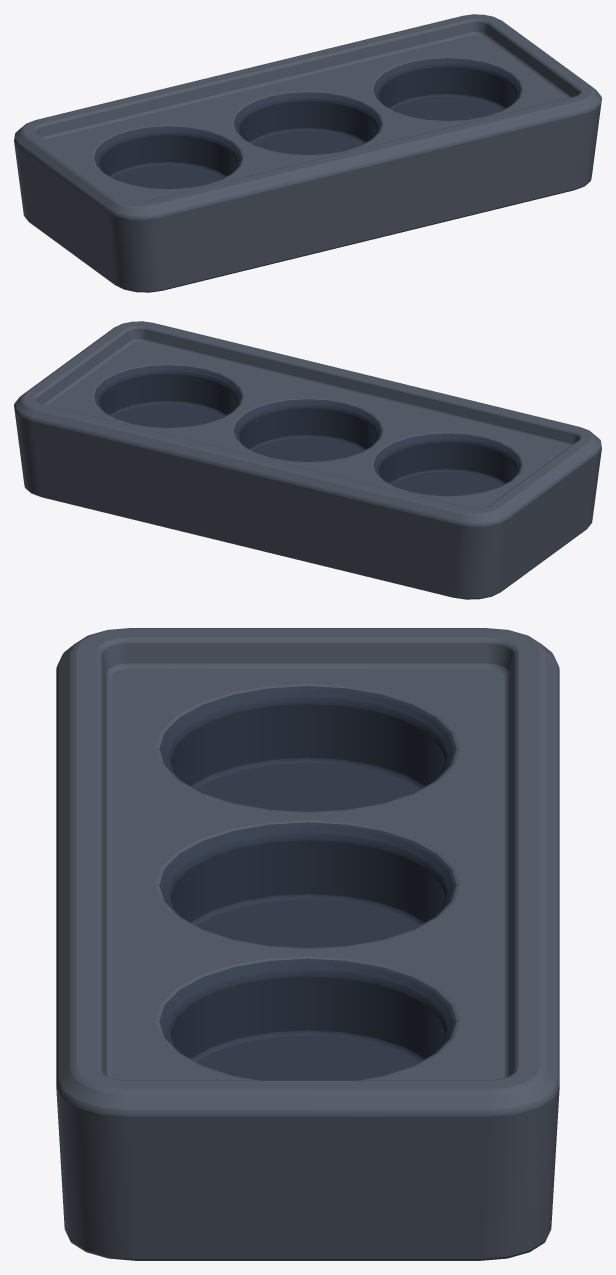
The model's file is holder.glb.
3 renders of one model, top to bottom at view 1: azimuth 30°, elevation 25°; view 2: azimuth 150°, elevation 25°; view 3: azimuth 270°, elevation 25°, orthographic. The views are drawn at different scales.
Parts seen in each view (by area): view 1: holder; view 2: holder; view 3: holder.
Boxes of the visible parts, x1,y1,x2,y2 form: holder: (14,14,601,292); holder: (14,321,601,599); holder: (56,628,559,1260).
Size of the model in its own units: 2.02 by 0.34 by 0.8993.
